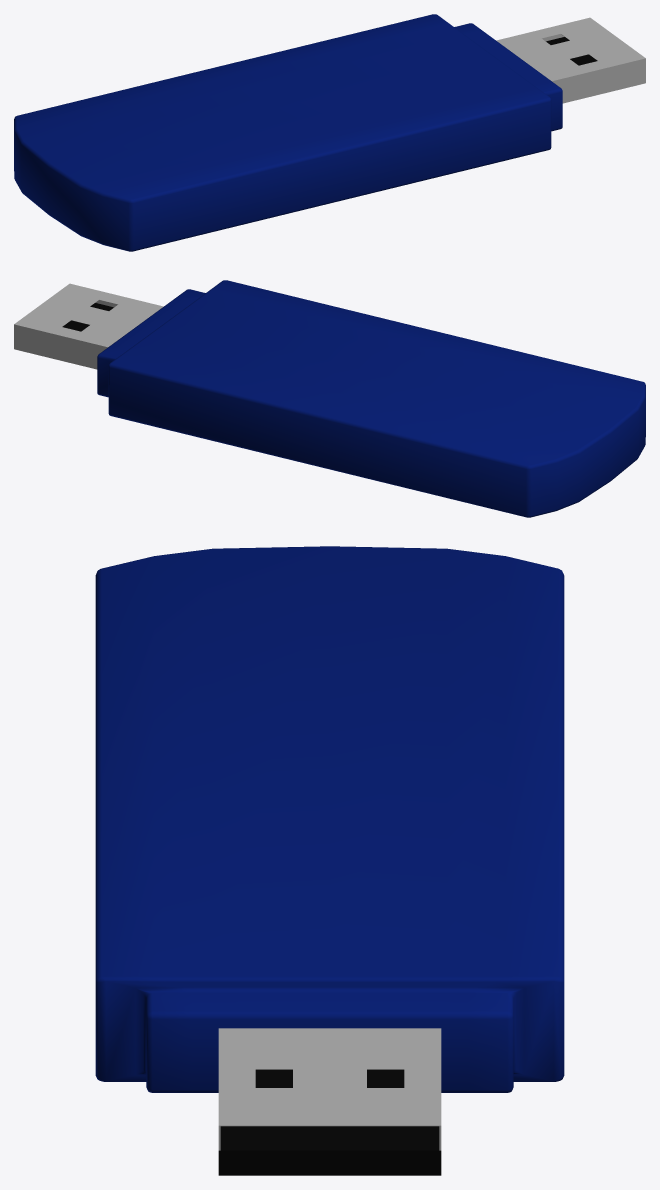
Rendered from usb.fbx.
The picture shows the model from 3 angles, top to bottom: view 1: azimuth 30°, elevation 25°; view 2: azimuth 150°, elevation 25°; view 3: azimuth 270°, elevation 25°; orthographic projection. The views are drawn at different scales.
Visible parts, largest first — view 1: Cube.009, Cube.010; view 2: Cube.009, Cube.010; view 3: Cube.009, Cube.010.
Part boxes in pixels (<box>): Cube.009: <box>14,14,562,251</box>; Cube.010: <box>496,17,645,103</box>; Cube.009: <box>97,280,645,517</box>; Cube.010: <box>14,283,163,369</box>; Cube.009: <box>95,546,564,1092</box>; Cube.010: <box>218,1028,441,1175</box>.
Bounding box in the file's own units: 118 × 10.34 × 42.07.
